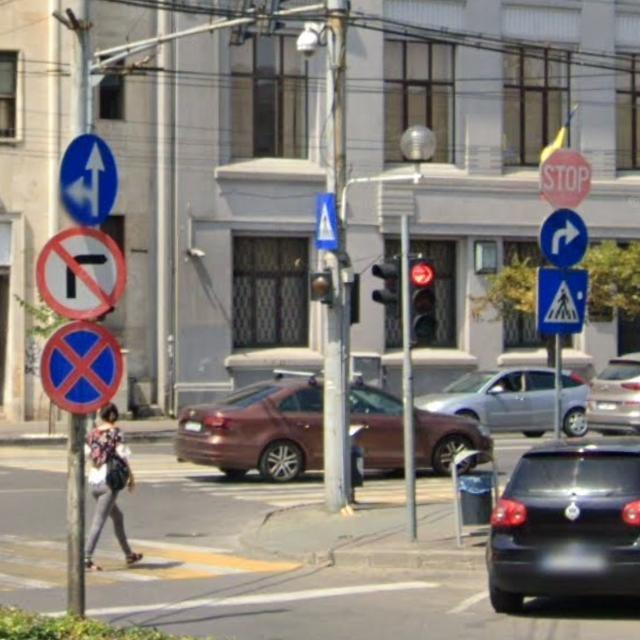forb_waiting: (35, 322, 122, 415)
info_crosswalk: (536, 271, 587, 334), (316, 191, 341, 247)
prio_stop: (538, 148, 594, 209)
